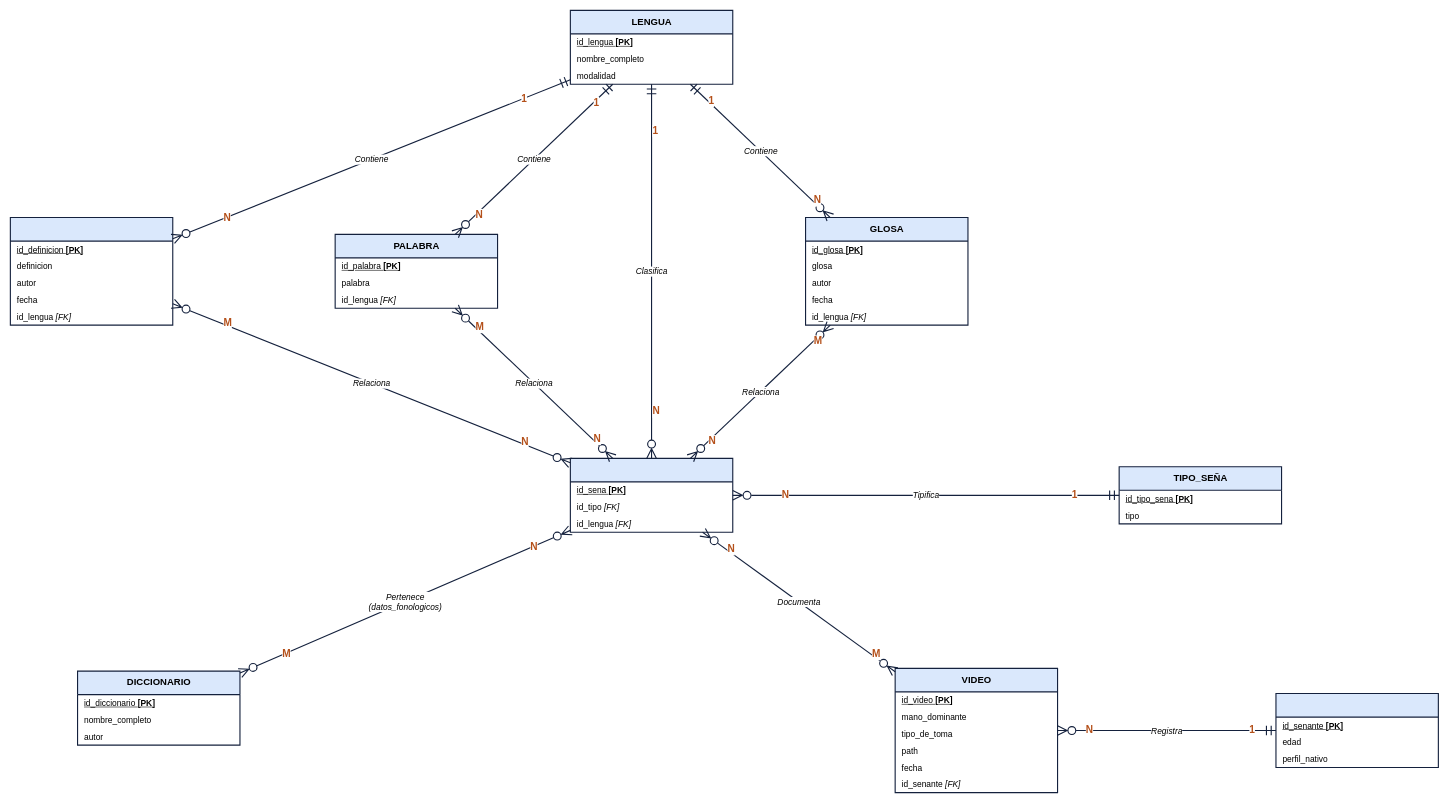
This 1448x802 diagram has some shape labels left out. Each missing label, with the box of its shape:
DEFINICIÓN: (10, 217, 173, 325)
SEÑA: (570, 458, 733, 533)
SEÑANTE: (1275, 693, 1439, 768)
